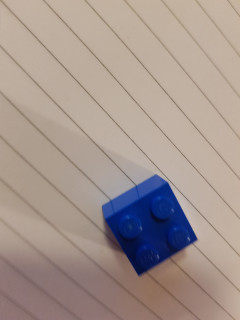2x2 blue: (101, 173, 200, 279)
